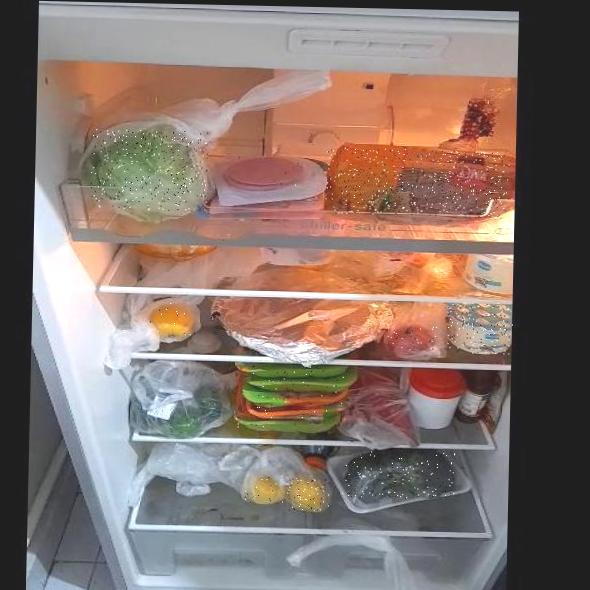bread: (325, 147, 511, 217)
broccoli: (342, 450, 455, 501)
chicken: (235, 364, 344, 432)
lemon: (147, 301, 200, 337), (287, 478, 330, 512), (244, 475, 286, 504)
lettuce: (90, 129, 208, 212)
salami: (227, 156, 306, 189)
tomato: (387, 325, 437, 356)
yoghurt: (448, 302, 513, 355)
